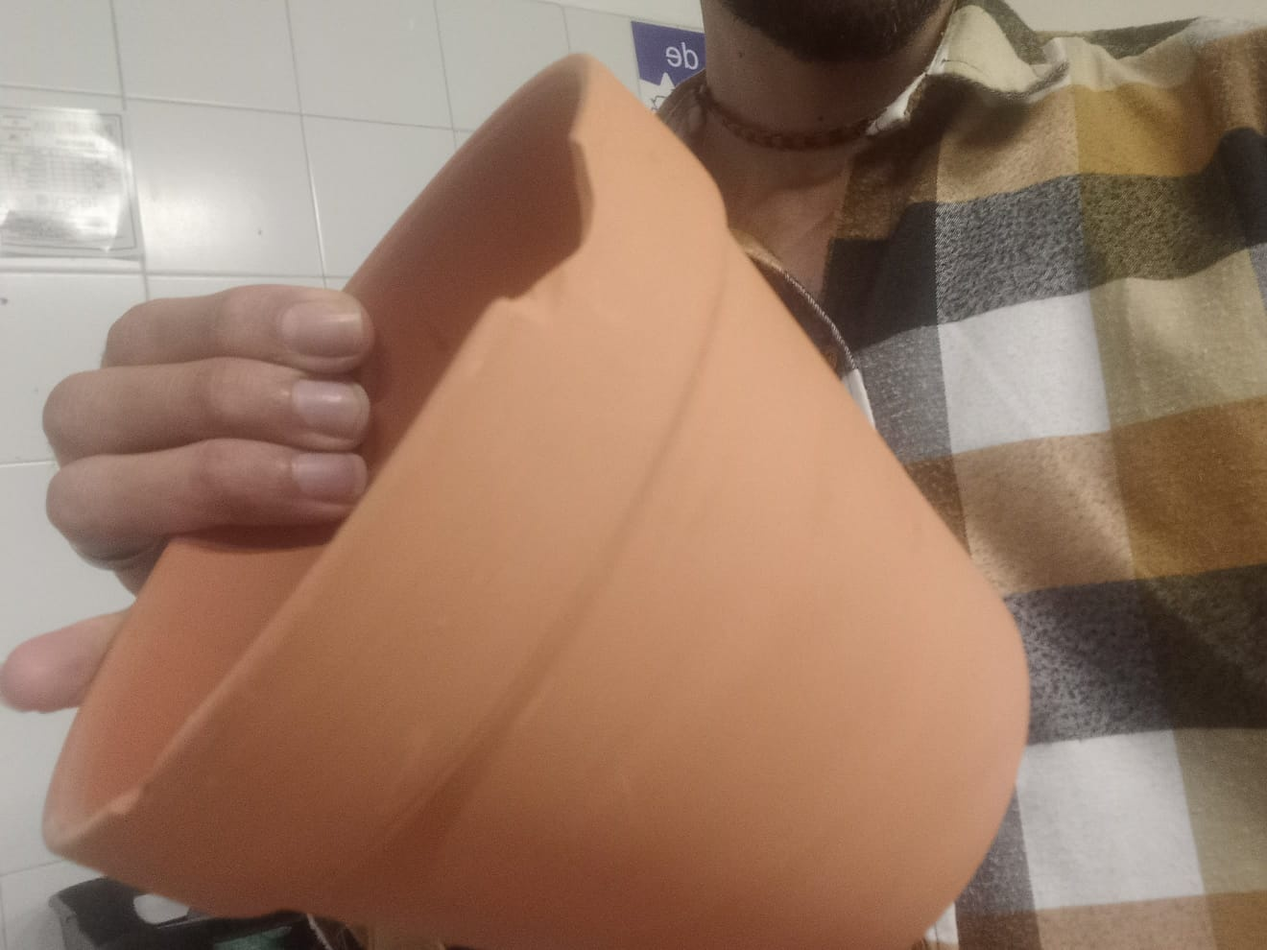Ordinario: (45, 49, 1032, 950)
